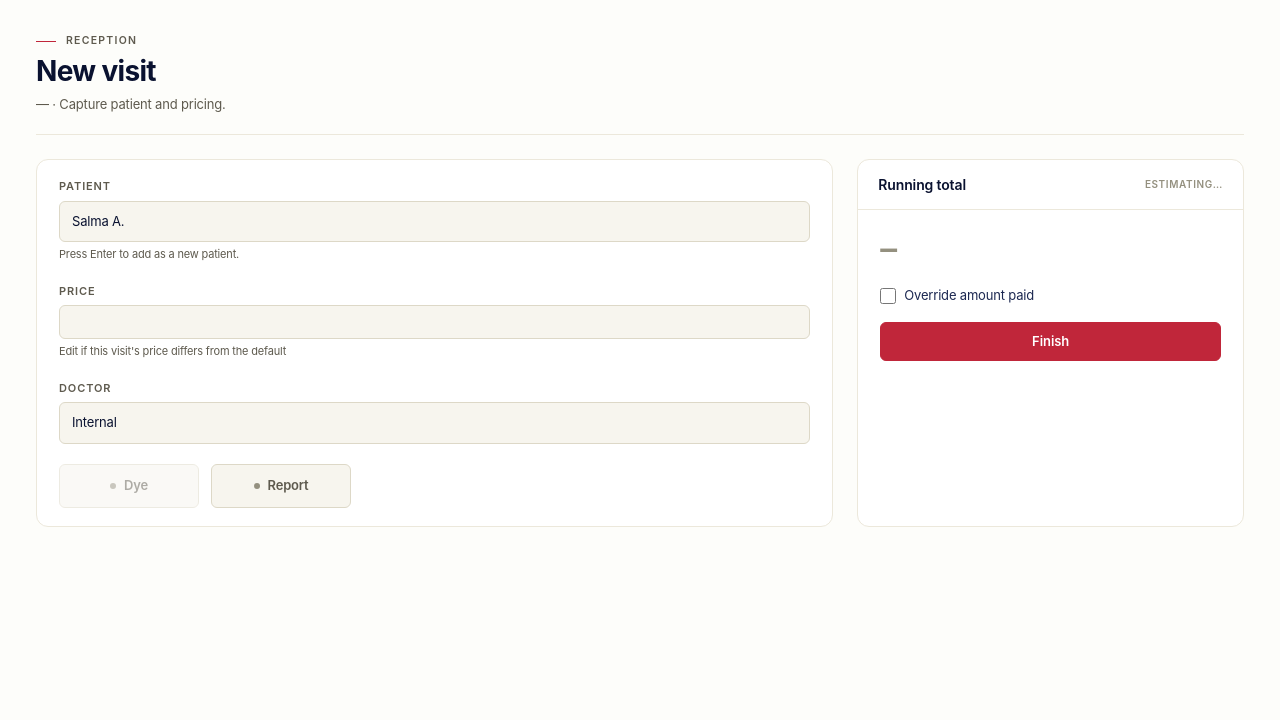
it: NewVisitTabbedPage › override checkbox reveals the amount field and blocks Finish until filled
The image size is (1280, 720).
Check: the button with test id "finish-btn" is enabled, box [880,322,1221,361]
What coordinates should you click on to do the following:
click the checkbox with test id "override-checkbox"
I would click on:
 (888, 296)
Its box is [880,288,896,304].
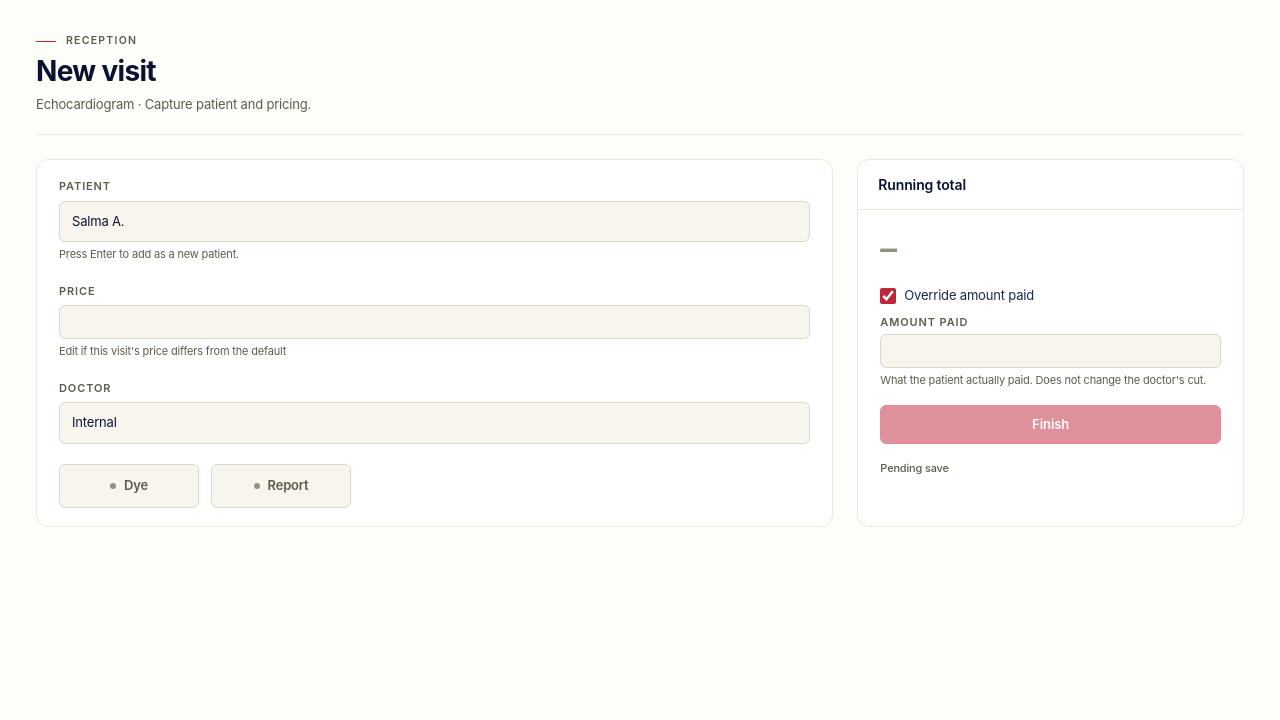
Check: the number field with test id "override-amount" is shown, box [880,334,1221,368]
Check: the button with test id "finish-btn" is disabled, box [880,404,1221,444]
